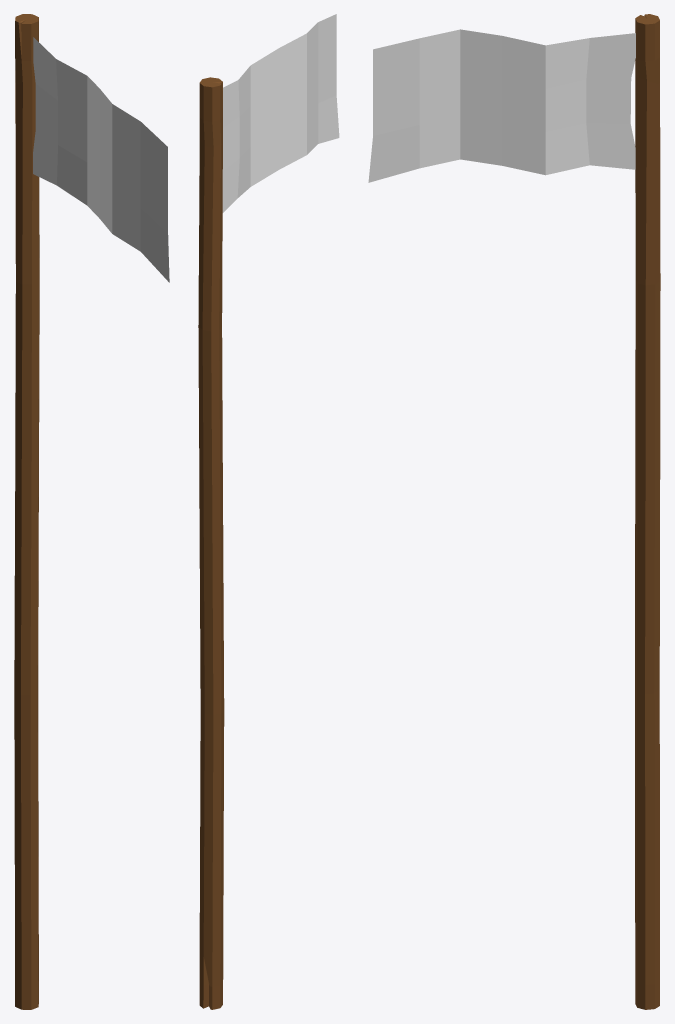
Rendered from Flagpole.fbx.
3 views of the same model, side by side, from view 1: azimuth 30°, elevation 25°; view 2: azimuth 150°, elevation 25°; view 3: azimuth 270°, elevation 25° (orthographic). The views are drawn at different scales.
Parts seen in each view (by area): view 1: Flagpole; view 2: Flagpole; view 3: Flagpole.
Part boxes in pixels (bbox=[...]): Flagpole: bbox=[14, 14, 169, 1009]; Flagpole: bbox=[198, 14, 339, 1009]; Flagpole: bbox=[368, 14, 660, 1009].
Bounding box in the file's own units: 37.75 × 1517 × 407.
